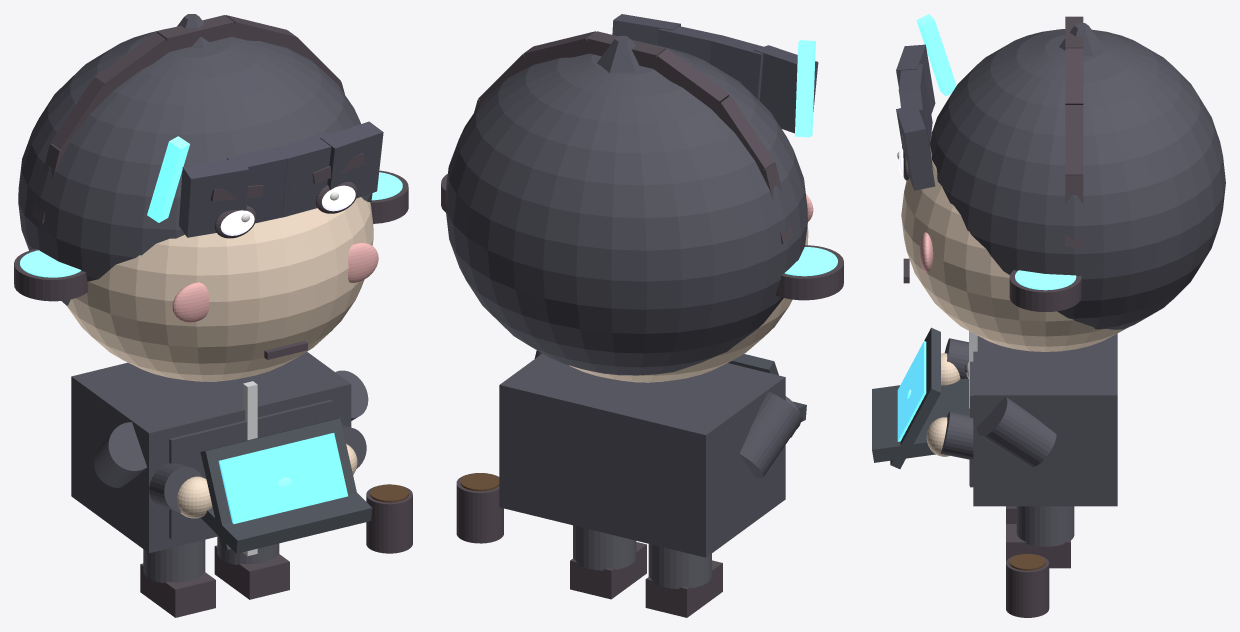
The model's file is hacker.glb.
3 renders of one model, left to right at view 1: azimuth 30°, elevation 25°; view 2: azimuth 150°, elevation 25°; view 3: azimuth 270°, elevation 25°, orthographic. The views are drawn at different scales.
Visible parts, largest first — view 1: Hood, Head, Coat, ScreenGlow, LaptopBase, CoatFront, Fringe_0, LaptopScreen, Fringe_3, Fringe_1, Fringe_2, Mug (+24 smaller); view 2: Hood, Coat, UpperArm_L, Fringe_0, Mug, Head, Leg_L, Leg_R, Shoe_L, Fringe_1, Shoe_R, BandSeg_-25 (+11 smaller); view 3: Hood, Coat, Head, LaptopBase, UpperArm_R, Leg_R, Mug, Fringe_3, LaptopScreen, EarCup_R, ScreenGlow, HoodGlow (+13 smaller).
Boxes of the visible parts, x1=… form: Hood: x1=18, y1=28, x2=372, y2=305; Head: x1=67, y1=197, x2=373, y2=381; Coat: x1=71, y1=352, x2=351, y2=553; ScreenGlow: x1=218, y1=433, x2=347, y2=523; LaptopBase: x1=200, y1=492, x2=372, y2=553; CoatFront: x1=169, y1=399, x2=332, y2=538; Fringe_0: x1=179, y1=157, x2=248, y2=237; LaptopScreen: x1=200, y1=418, x2=356, y2=550; Fringe_3: x1=320, y1=121, x2=383, y2=198; Fringe_1: x1=227, y1=145, x2=292, y2=223; Fringe_2: x1=276, y1=133, x2=331, y2=217; Mug: x1=366, y1=485, x2=412, y2=553; Hood: x1=445, y1=44, x2=807, y2=375; Coat: x1=499, y1=353, x2=785, y2=557; UpperArm_L: x1=740, y1=391, x2=802, y2=478; Fringe_0: x1=754, y1=45, x2=818, y2=133; Mug: x1=456, y1=474, x2=503, y2=543; Head: x1=569, y1=226, x2=808, y2=382; Leg_L: x1=648, y1=544, x2=711, y2=588; Leg_R: x1=573, y1=525, x2=636, y2=570; Shoe_L: x1=645, y1=560, x2=722, y2=617; Fringe_1: x1=708, y1=35, x2=763, y2=100; Shoe_R: x1=570, y1=542, x2=646, y2=599; BandSeg_-25: x1=652, y1=48, x2=729, y2=111; Hood: x1=930, y1=29, x2=1225, y2=329; Coat: x1=973, y1=333, x2=1117, y2=506; Head: x1=901, y1=131, x2=1128, y2=351; LaptopBase: x1=872, y1=378, x2=969, y2=462; UpperArm_R: x1=977, y1=396, x2=1056, y2=467; Leg_R: x1=1016, y1=506, x2=1074, y2=546; Mug: x1=1006, y1=555, x2=1049, y2=617; Fringe_3: x1=896, y1=105, x2=935, y2=190; LaptopScreen: x1=890, y1=327, x2=940, y2=468; EarCup_R: x1=1009, y1=270, x2=1081, y2=311; ScreenGlow: x1=897, y1=341, x2=926, y2=441; HoodGlow: x1=916, y1=14, x2=956, y2=96.
Bounding box in the file's own units: 1.44 × 2 × 1.24.
